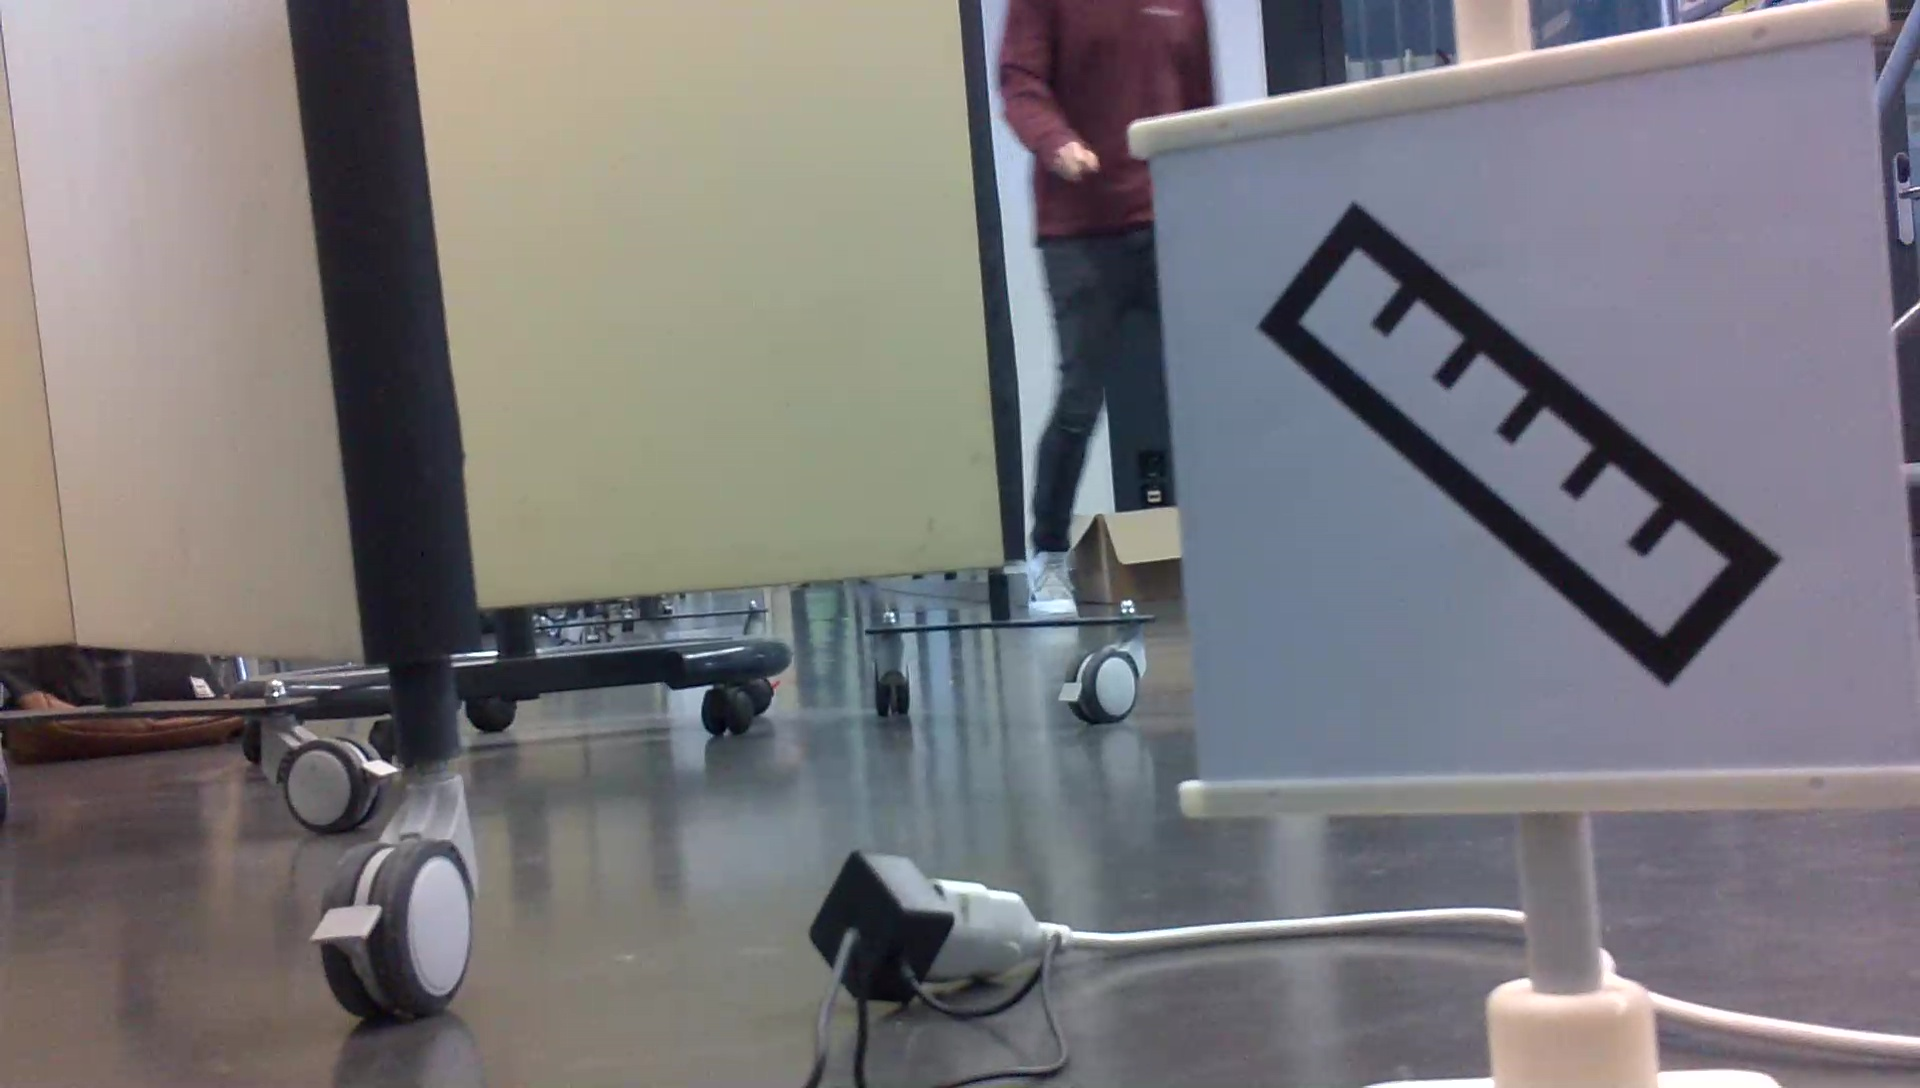ruler: (1249, 203, 1785, 688)
